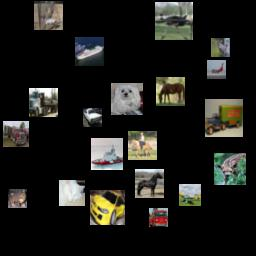airplane: (179, 184, 201, 206), (207, 60, 226, 79)
automobile: (90, 190, 125, 225), (83, 108, 102, 127)
bird: (155, 2, 193, 40), (211, 38, 230, 57)
cat: (59, 180, 85, 206)
deer: (214, 153, 246, 185), (34, 1, 63, 30)
dog: (111, 83, 143, 115)
frog: (8, 189, 27, 208)
ship: (91, 138, 123, 170), (75, 37, 104, 66)
truck: (205, 99, 243, 137), (29, 88, 58, 117), (3, 121, 29, 147), (149, 208, 168, 227)
